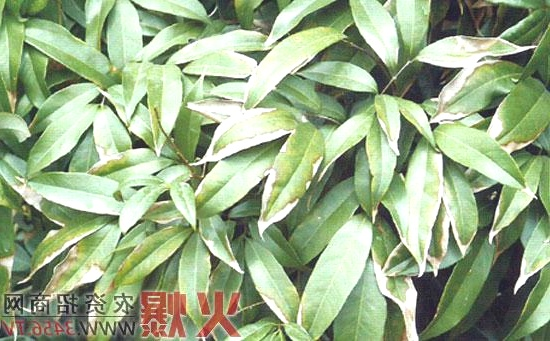Anthracnose: (359, 197, 481, 330), (187, 43, 292, 171), (435, 23, 499, 116), (25, 222, 104, 293), (94, 135, 164, 184), (12, 164, 55, 213)
